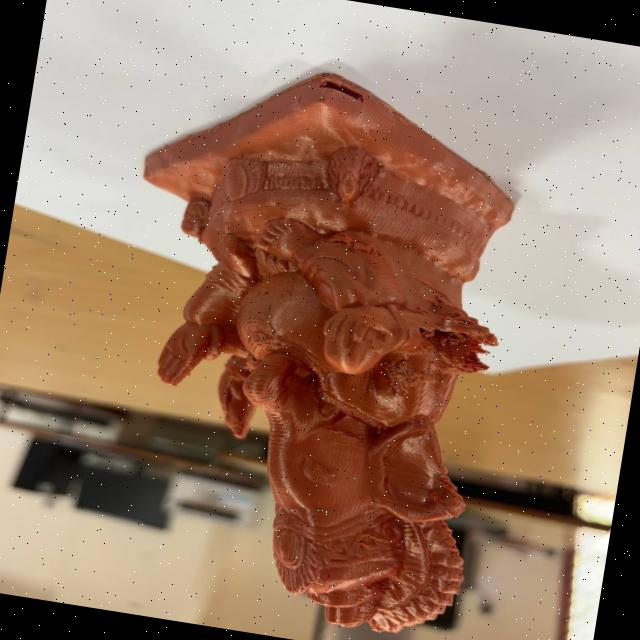cracks: (411, 296, 517, 388), (300, 69, 377, 114)
